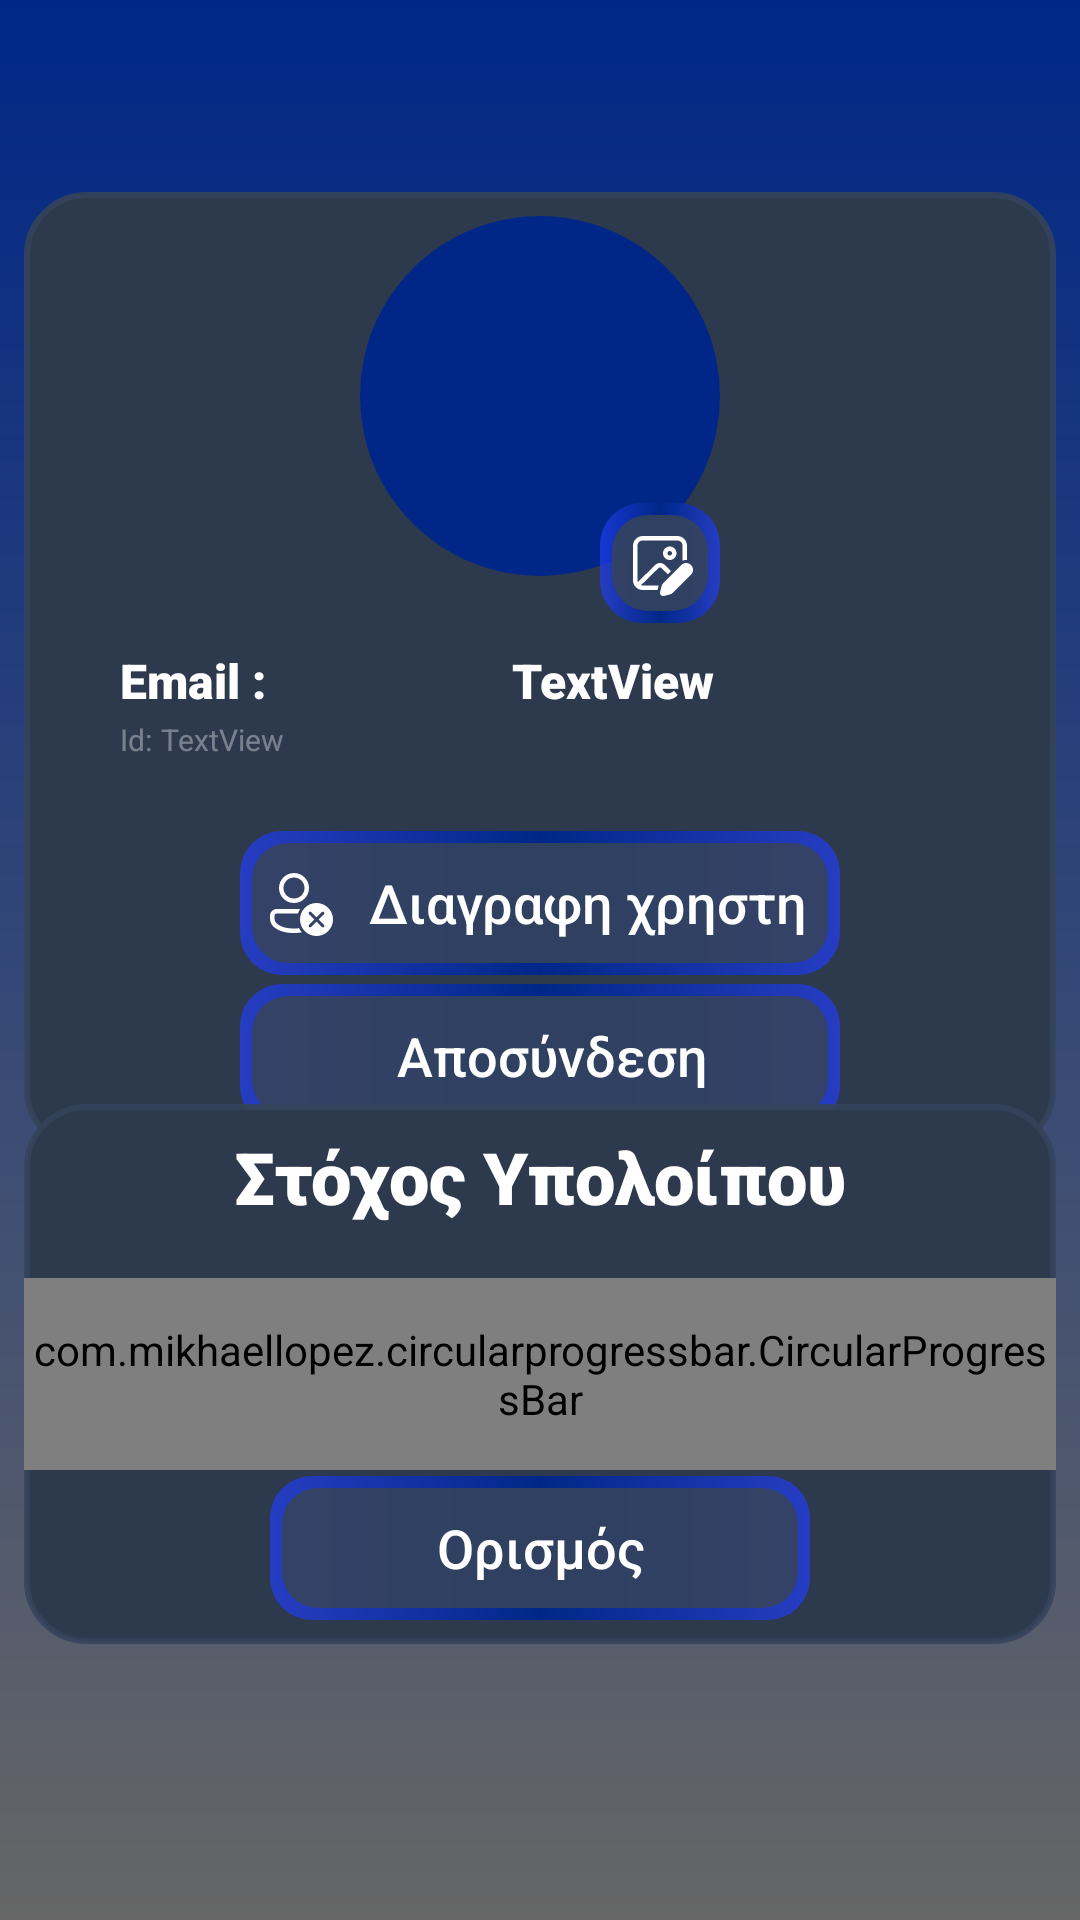

Point at icon controls on the screen. Image size 1080px x 1920px, points as (x=x, y=y).
imageedit: (x=660, y=563)
